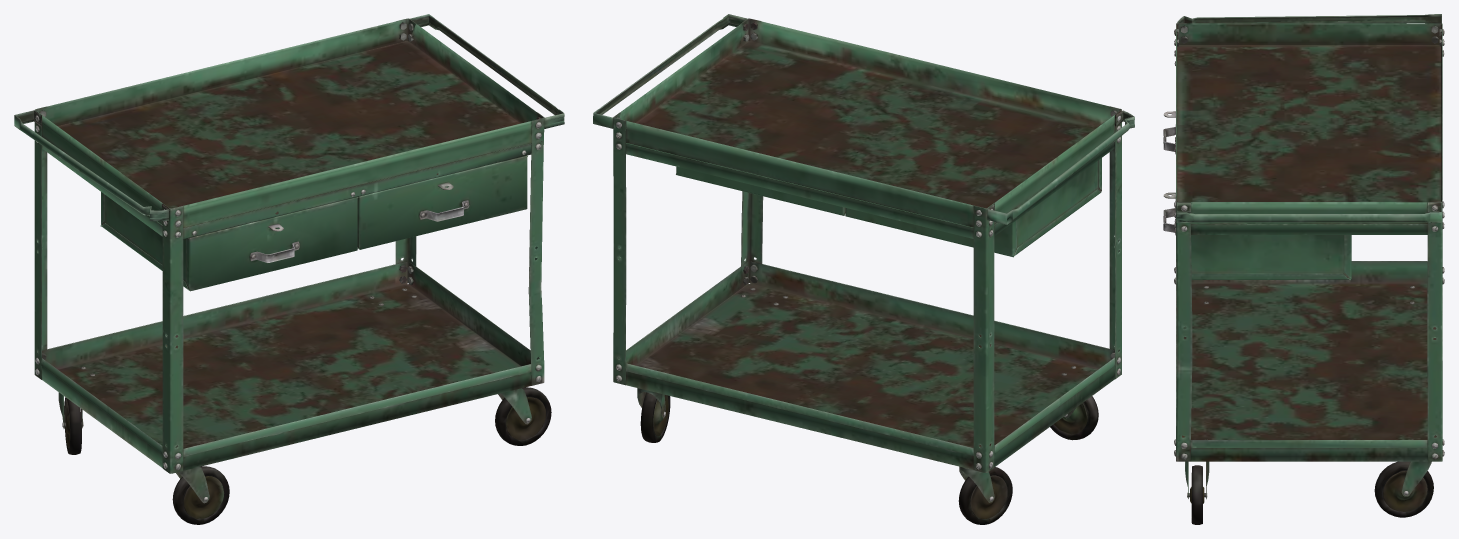
File: tool_cart.glb
3 renders of one model, left to right at view 1: azimuth 30°, elevation 25°; view 2: azimuth 150°, elevation 25°; view 3: azimuth 270°, elevation 25°, orthographic. The views are drawn at different scales.
Parts seen in each view (by area): view 1: tool_cart; view 2: tool_cart; view 3: tool_cart.
Boxes of the visible parts, x1,y1,x2,y2 form: tool_cart: [14, 14, 564, 524]; tool_cart: [593, 14, 1134, 524]; tool_cart: [1163, 14, 1444, 524].
Bounding box in the file's own units: 1.27 × 0.9647 × 0.7537.
Materials: 1 (1 with a texture image).
